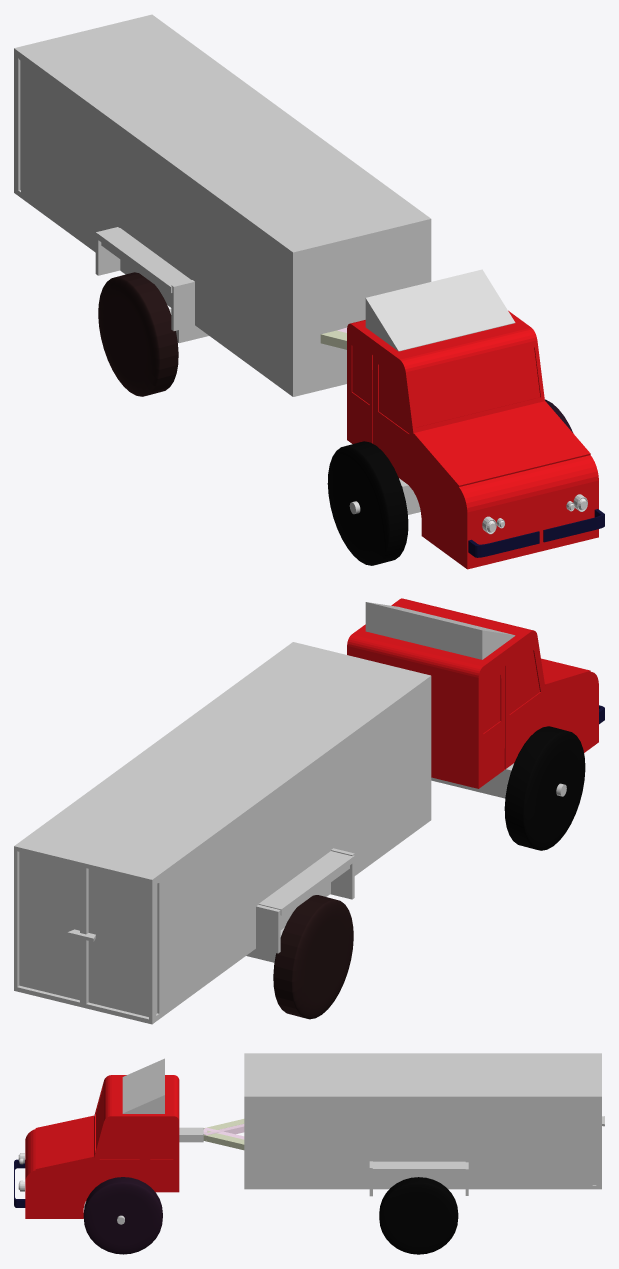
Rendered from Mark3.fbx.
3 renders of one model, top to bottom at view 1: azimuth 30°, elevation 25°; view 2: azimuth 150°, elevation 25°; view 3: azimuth 270°, elevation 25°, orthographic. The views are drawn at different scales.
Visible parts, largest first — view 1: vehicle_body, wheel_rr, wheel_fr; view 2: vehicle_body, wheel_rr, wheel_fr; view 3: vehicle_body, wheel_rl, wheel_fl.
Boxes of the visible parts, bbox=[...] form: vehicle_body: bbox=[14, 14, 604, 569]; wheel_rr: bbox=[98, 272, 178, 396]; wheel_fr: bbox=[327, 441, 408, 565]; vehicle_body: bbox=[14, 598, 604, 1024]; wheel_rr: bbox=[273, 895, 353, 1019]; wheel_fr: bbox=[504, 726, 585, 850]; vehicle_body: bbox=[14, 1053, 604, 1224]; wheel_rl: bbox=[379, 1177, 458, 1254]; wheel_fl: bbox=[83, 1177, 162, 1254].
Bounding box in the file's own units: 1498 × 395 × 418.
